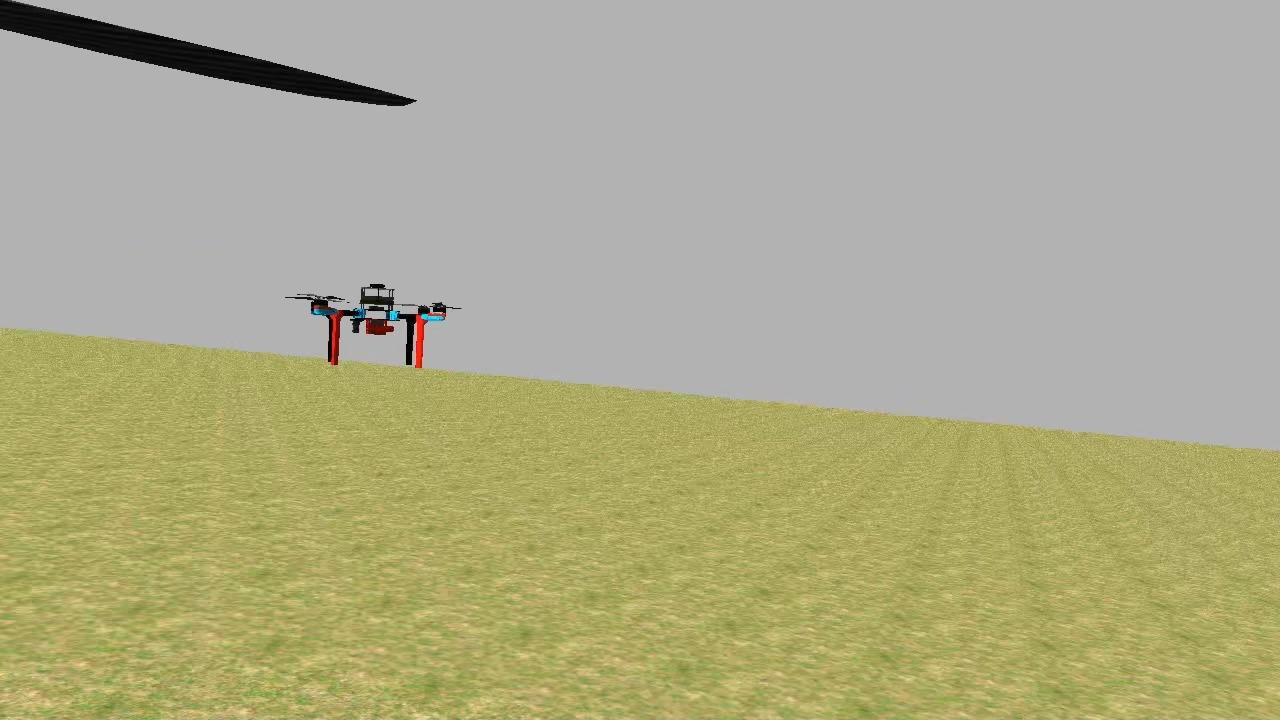UAV: (304, 274, 460, 374)
